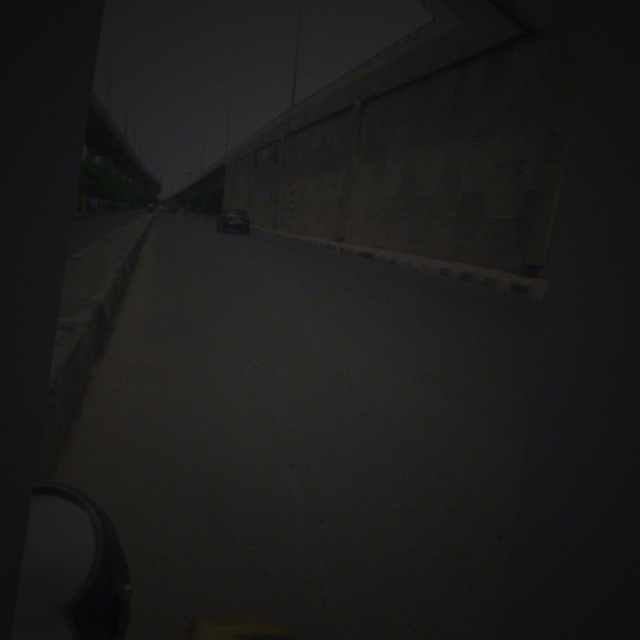Round_About: (277, 171, 308, 201)
